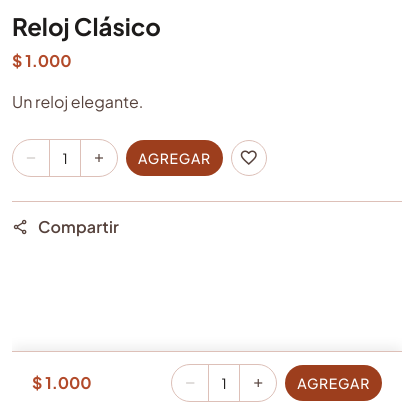
Scenario: FichaProducto — la cantidad es una sola entre las dos instancias del CTA › subir la cantidad en la barra fija se refleja en el bloque de precio
Click the 2nd button named "aumentar" at (258,383), box [240,365,276,401]
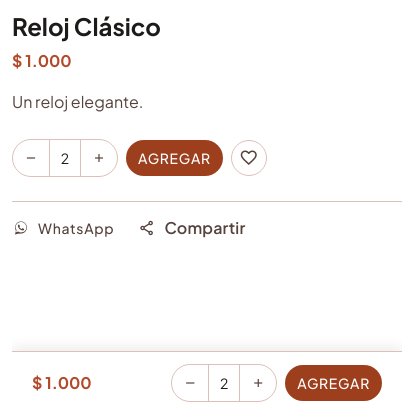
Check: the text "2" below "Un reloj elegante." is shown, box [61,149,69,167]
